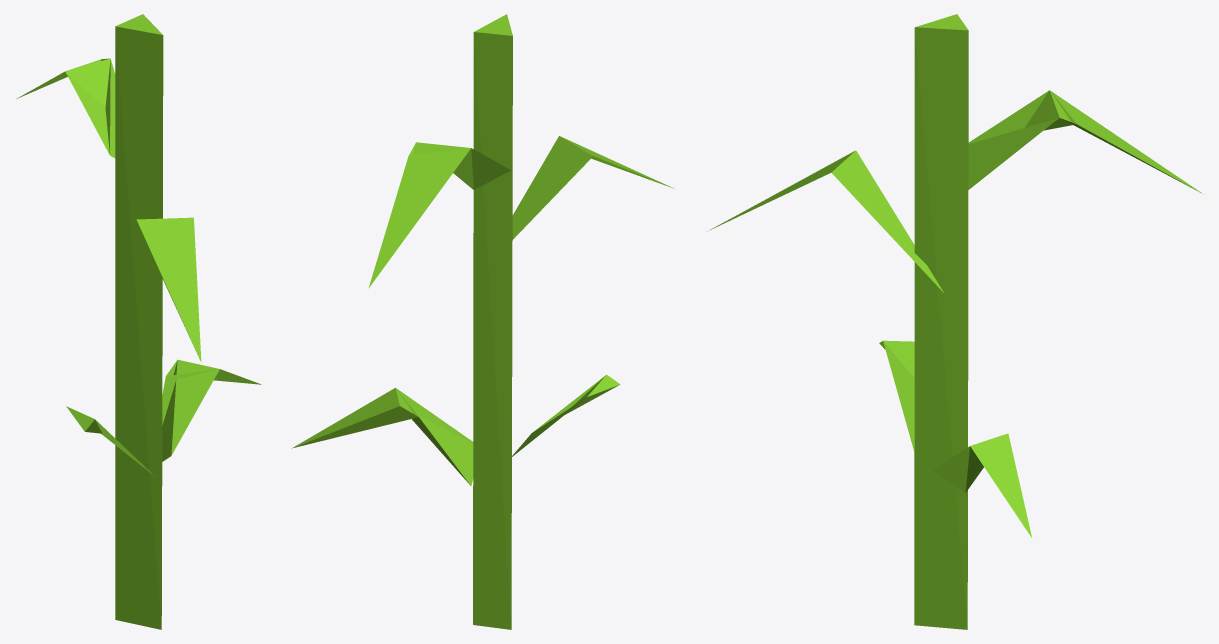
Rendered from maizeplant_collision.dae.
3 views of the same model, side by side, from view 1: azimuth 30°, elevation 25°; view 2: azimuth 150°, elevation 25°; view 3: azimuth 270°, elevation 25° (orthographic).
Parts seen in each view (by area): view 1: Plane_008; view 2: Plane_008; view 3: Plane_008.
Boxes of the visible parts, left/top/right/bottom form: Plane_008: left=16, top=14, right=261, bottom=629; Plane_008: left=292, top=14, right=674, bottom=629; Plane_008: left=707, top=14, right=1202, bottom=629.
Size of the model in its own units: 0.1787 by 0.3024 by 0.4.
